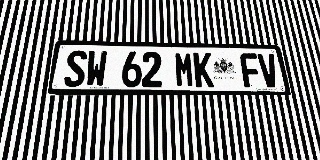2: (142, 51, 162, 87)
6: (122, 51, 142, 87)
F: (239, 53, 262, 87)
K: (193, 52, 214, 87)
M: (174, 52, 195, 87)
S: (63, 50, 87, 87)
V: (257, 53, 280, 87)
W: (85, 51, 107, 87)
